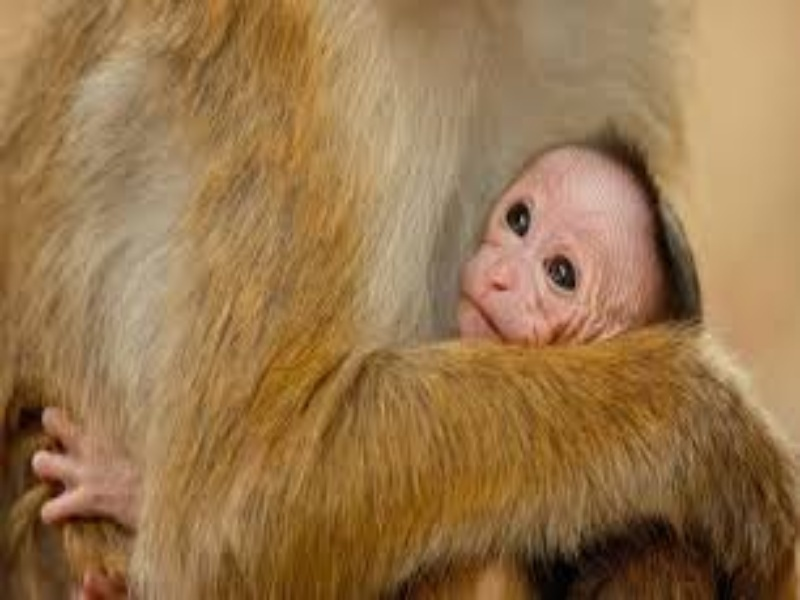monkey: (436, 96, 695, 373)
